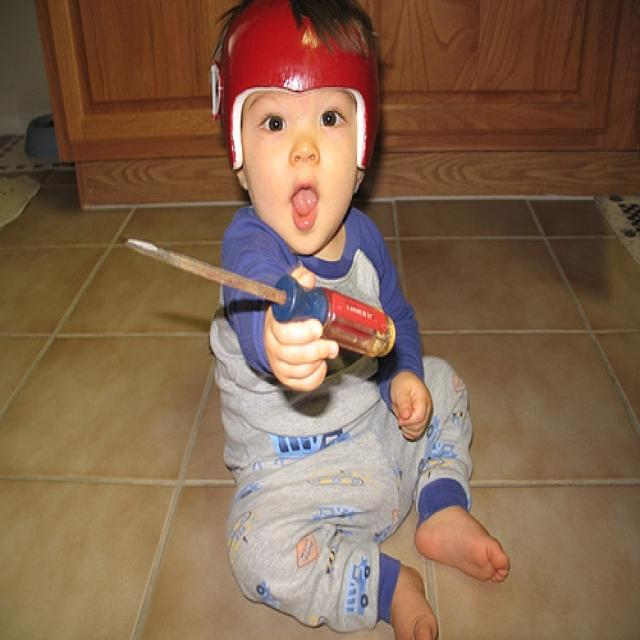screw driver: (101, 208, 481, 394)
